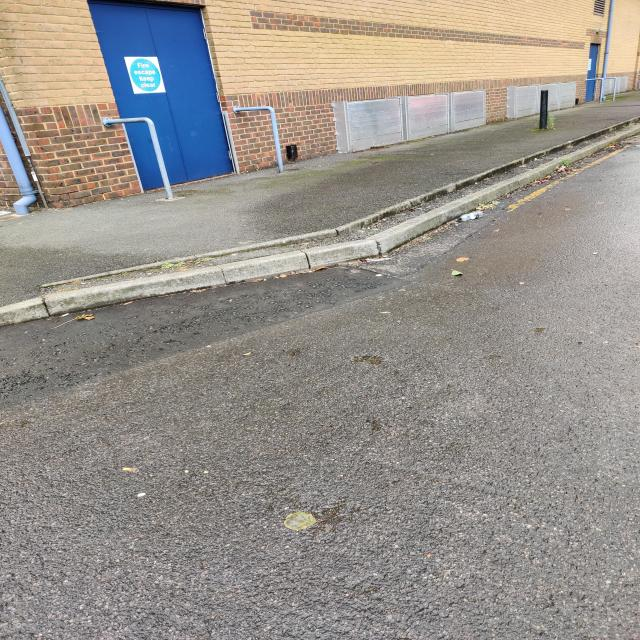litter: (448, 207, 491, 225)
